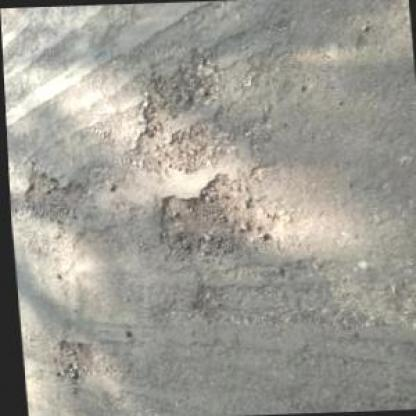pothole: (150, 168, 283, 266), (135, 54, 219, 126), (128, 118, 226, 176), (20, 162, 90, 226), (51, 337, 94, 395)
